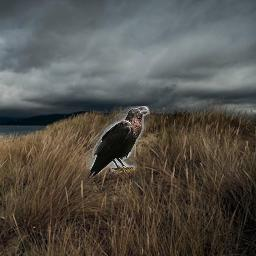Crow: (86, 106, 150, 178)
